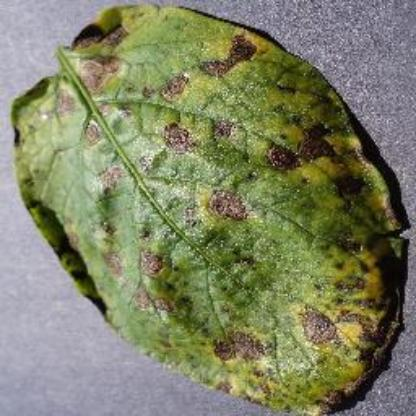Early-Blight: (12, 5, 406, 412)
